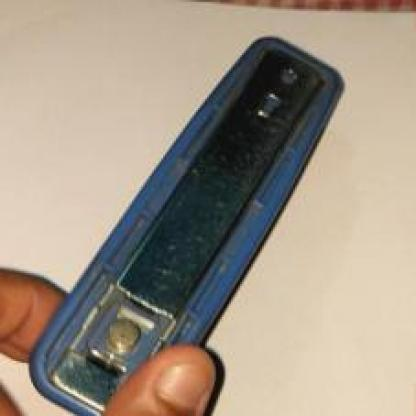stapler: (22, 34, 352, 415)
